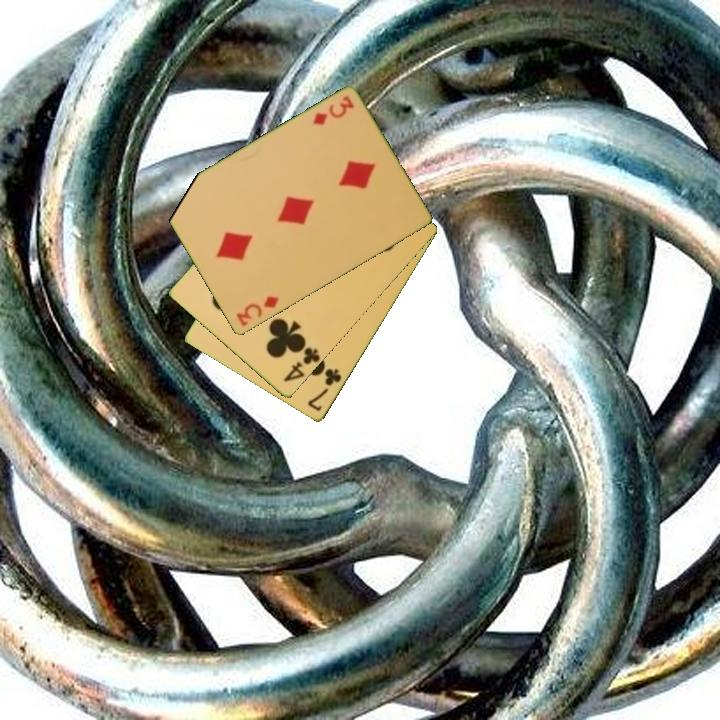3d: (233, 292, 282, 330), (309, 93, 357, 128)
4c: (280, 344, 323, 385)
7c: (304, 365, 345, 415)
